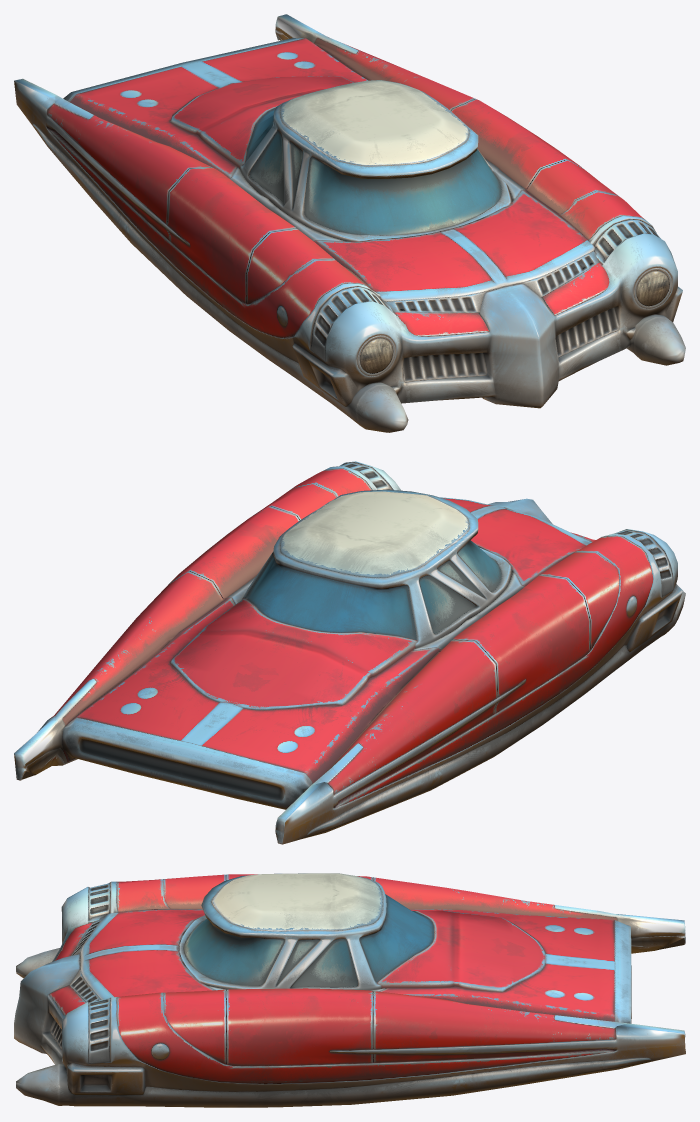
The model's file is car.glb.
3 views of the same model, one above another, from view 1: azimuth 30°, elevation 25°; view 2: azimuth 150°, elevation 25°; view 3: azimuth 270°, elevation 25° (orthographic). The views are drawn at different scales.
Parts seen in each view (by area): view 1: default_default_0; view 2: default_default_0; view 3: default_default_0.
Part boxes in pixels (box(x1,y1,x2,y2)): default_default_0: box(14, 14, 685, 432); default_default_0: box(14, 461, 685, 844); default_default_0: box(14, 873, 685, 1107).
Size of the model in its own units: 341 by 167 by 660.
Materials: 1 (1 with a texture image).
